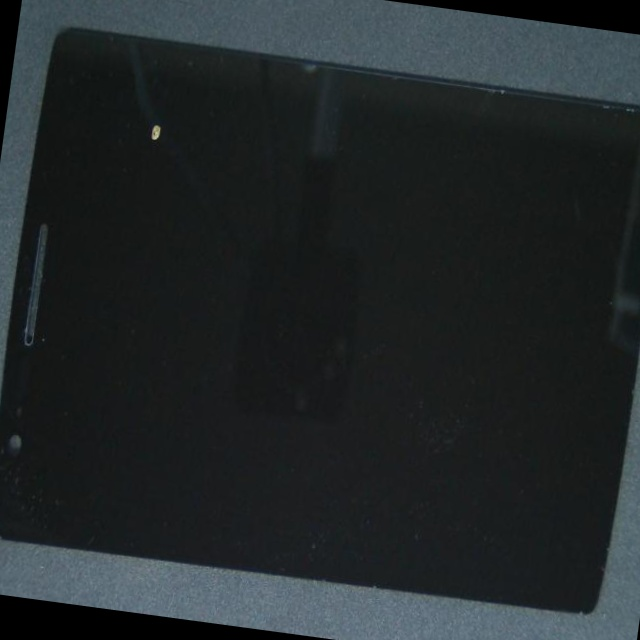stain: (98, 78, 269, 224)
